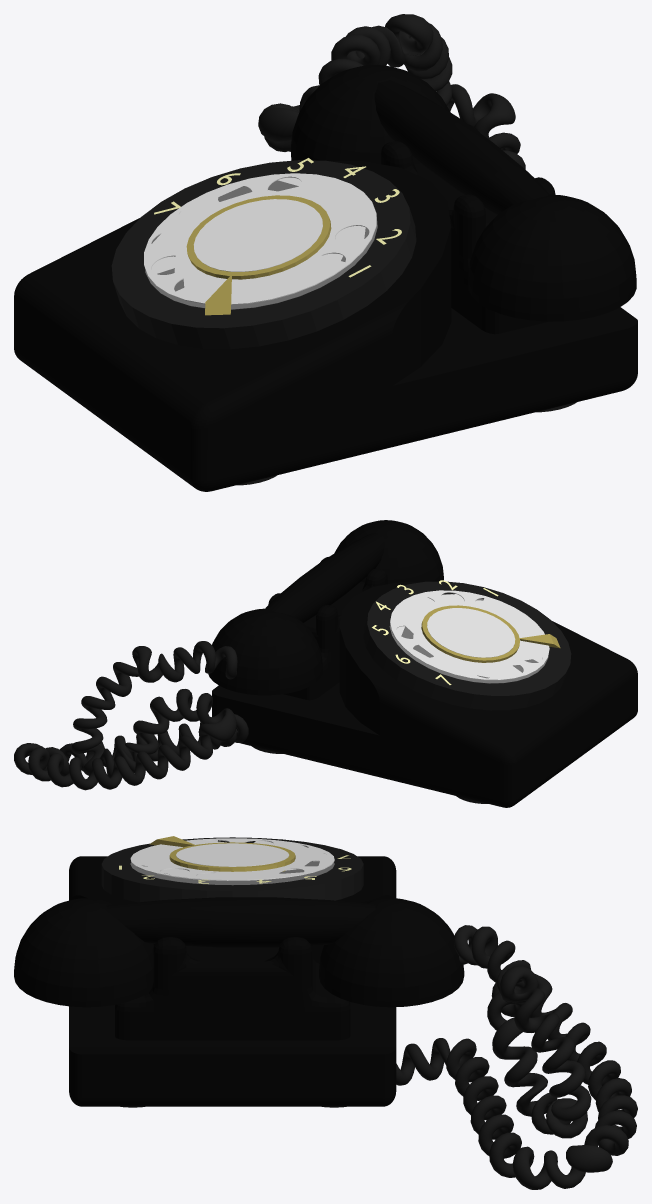
File: Telephone.fbx
3 views of the same model, one above another, from view 1: azimuth 30°, elevation 25°; view 2: azimuth 150°, elevation 25°; view 3: azimuth 270°, elevation 25° (orthographic). The views are drawn at different scales.
Parts seen in each view (by area): view 1: TeleBody, Middle, Phone, Number, Spring, Mball, Phone.001, MiddleImg, PhoneBody, Middle3, Middle2, Niddle; view 2: TeleBody, Spring, Middle, Phone.001, Number, Mball, Phone, MiddleImg, PhoneBody, Middle3, Middle2; view 3: TeleBody, Spring, PhoneBody, Phone, Phone.001, Mball, Middle, Number, MiddleImg, Middle2, Middle3.
Boxes of the visible parts, left/top/right/bottom form: TeleBody: left=14, top=161, right=637, bottom=491; Middle: left=111, top=160, right=416, bottom=349; Phone: left=468, top=194, right=636, bottom=321; Number: left=144, top=173, right=376, bottom=304; Spring: left=258, top=14, right=525, bottom=169; Mball: left=374, top=80, right=549, bottom=214; Phone.001: left=291, top=65, right=450, bottom=164; MiddleImg: left=193, top=199, right=322, bottom=271; PhoneBody: left=381, top=124, right=555, bottom=334; Middle3: left=186, top=195, right=331, bottom=279; Middle2: left=145, top=180, right=377, bottom=309; Niddle: left=205, top=276, right=231, bottom=315; TeleBody: left=212, top=582, right=637, bottom=807; Spring: left=14, top=641, right=248, bottom=790; Middle: left=363, top=581, right=571, bottom=710; Phone.001: left=208, top=608, right=322, bottom=695; Number: left=390, top=590, right=549, bottom=680; Mball: left=265, top=532, right=384, bottom=622; Phone: left=334, top=520, right=443, bottom=583; MiddleImg: left=427, top=608, right=515, bottom=657; PhoneBody: left=268, top=557, right=387, bottom=700; Middle3: left=421, top=605, right=519, bottom=662; Middle2: left=389, top=594, right=548, bottom=683; TeleBody: left=69, top=856, right=396, bottom=1106; Spring: left=396, top=925, right=637, bottom=1189; PhoneBody: left=115, top=937, right=350, bottom=1040; Phone: left=14, top=898, right=154, bottom=1007; Phone.001: left=319, top=898, right=464, bottom=1007; Mball: left=106, top=897, right=375, bottom=947; Middle: left=101, top=837, right=363, bottom=902; Number: left=130, top=838, right=334, bottom=880; MiddleImg: left=176, top=843, right=289, bottom=866; Middle2: left=130, top=861, right=334, bottom=885; Middle3: left=169, top=842, right=295, bottom=871.
Size of the model in its own units: 317 by 114 by 324.
